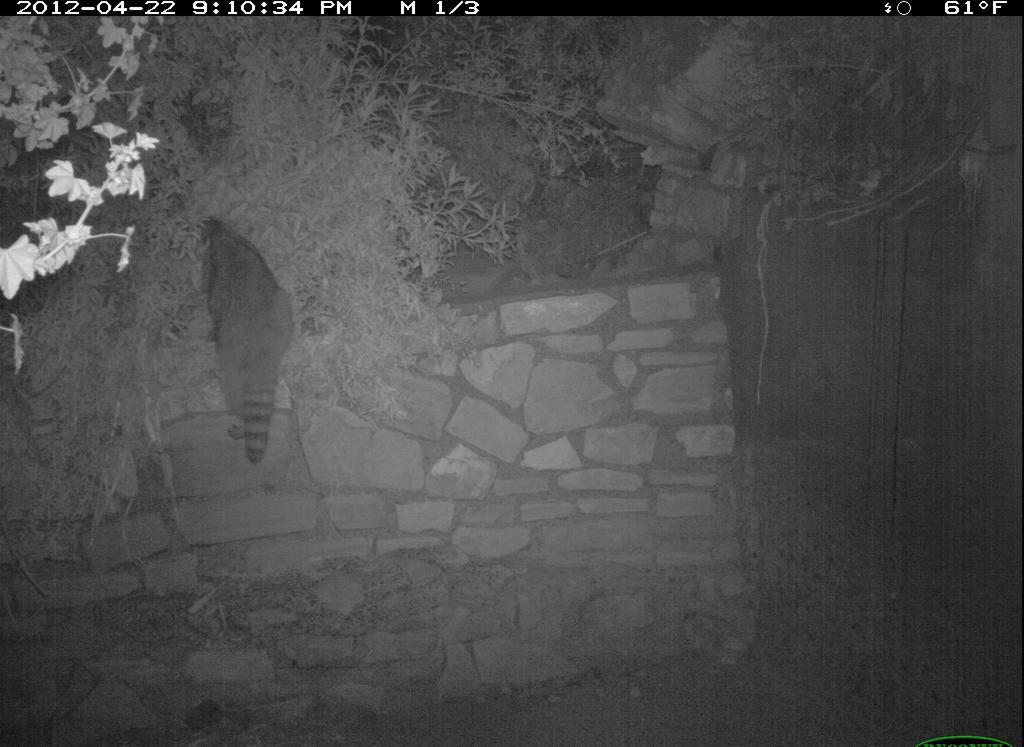raccoon: (177, 194, 306, 457)
